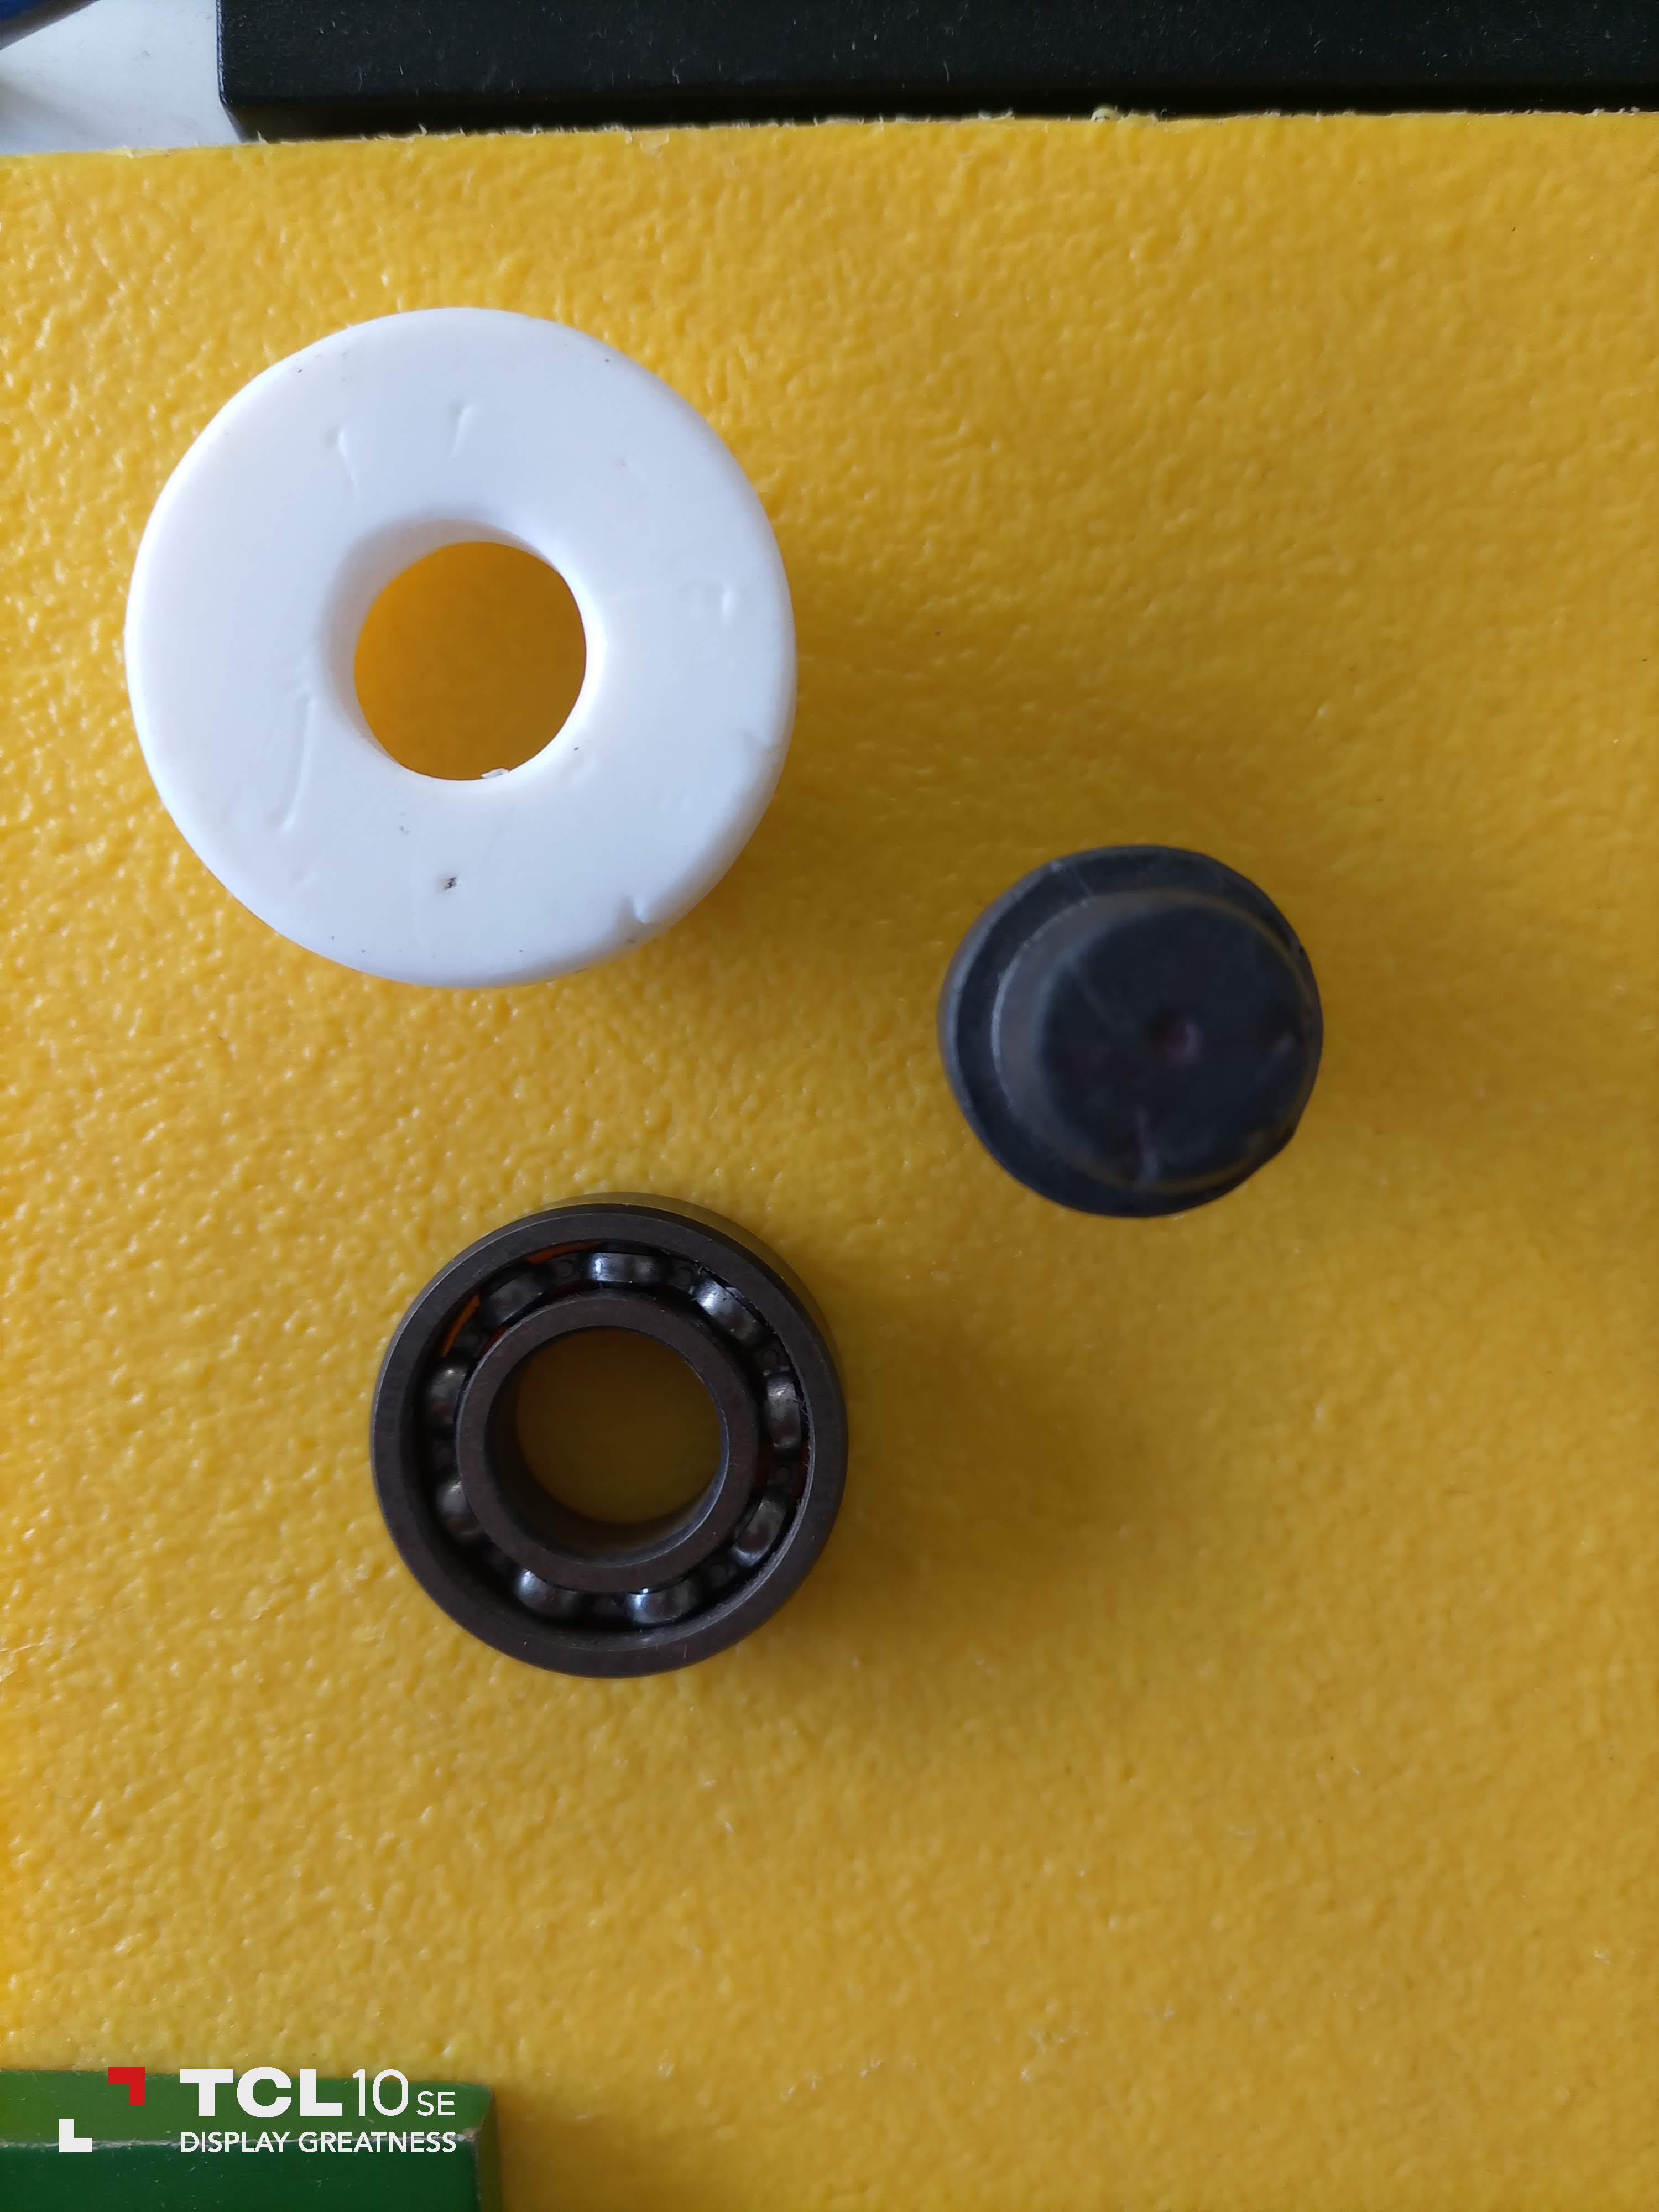Ardatza: (929, 845, 1319, 1209)
Roda: (357, 1179, 819, 1674)
Tapa: (118, 301, 770, 984)
